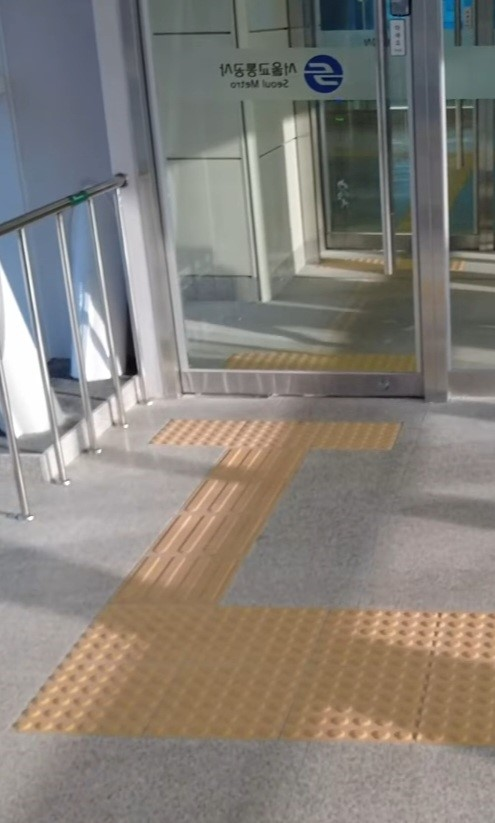guideBlock: (134, 553, 235, 603), (163, 512, 276, 554), (208, 474, 285, 522), (232, 444, 302, 478)
warningBlock: (315, 650, 441, 742), (178, 655, 312, 734), (83, 601, 209, 665), (57, 675, 174, 737), (429, 664, 495, 755), (206, 615, 321, 665), (327, 602, 435, 654), (158, 421, 253, 449), (441, 618, 495, 662), (327, 419, 403, 449), (247, 426, 328, 446)
